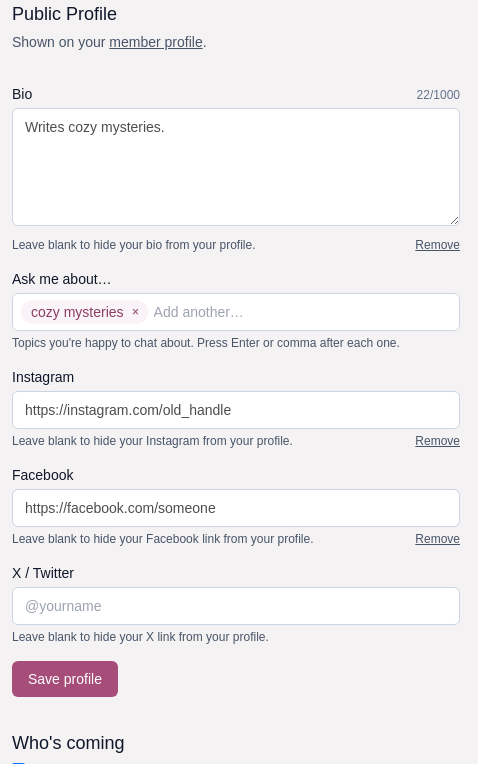
Test: ProfilePanel › saves a new Instagram handle with the same Save button as the other fields
Replace the text in the field labelled "Instagram" with "@new_handle". click: point(236, 410)
box: [12,391,460,429]
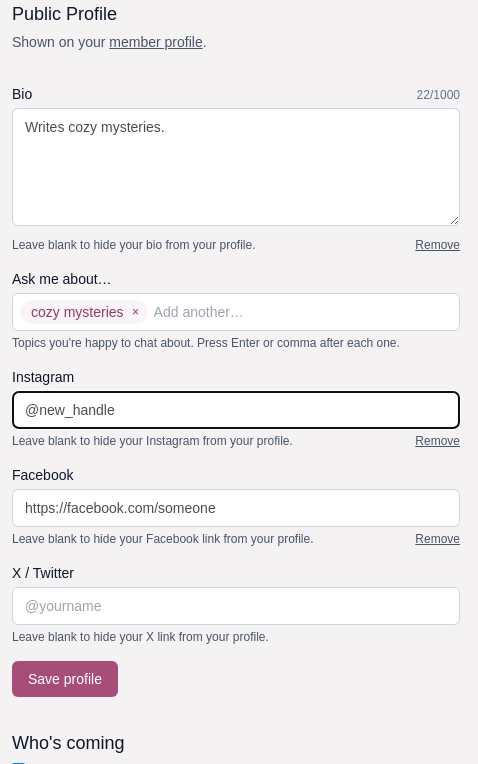
Click the button "Save profile". click: point(65, 679)
box: [12,661,118,697]
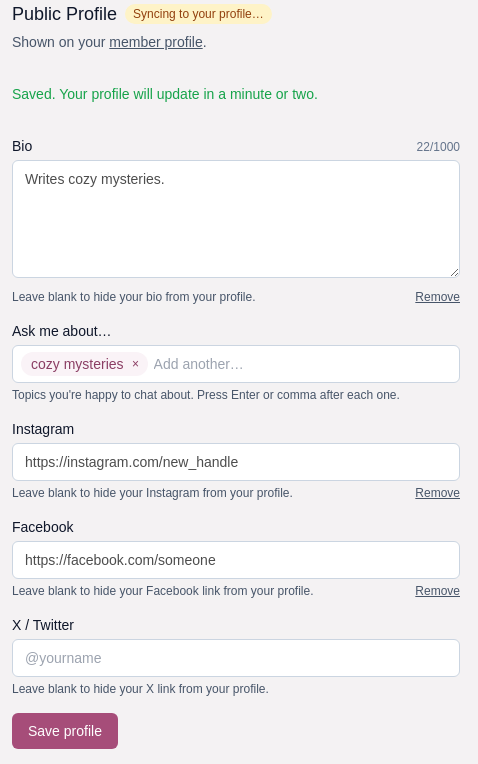
Now the message shows "Saved. Your profile will update", box [12,86,318,102]
